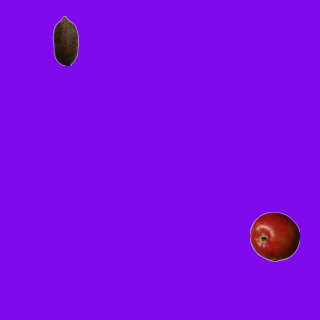Apple Braeburn: (249, 211, 299, 261)
Nut Pecan: (40, 15, 90, 65)
